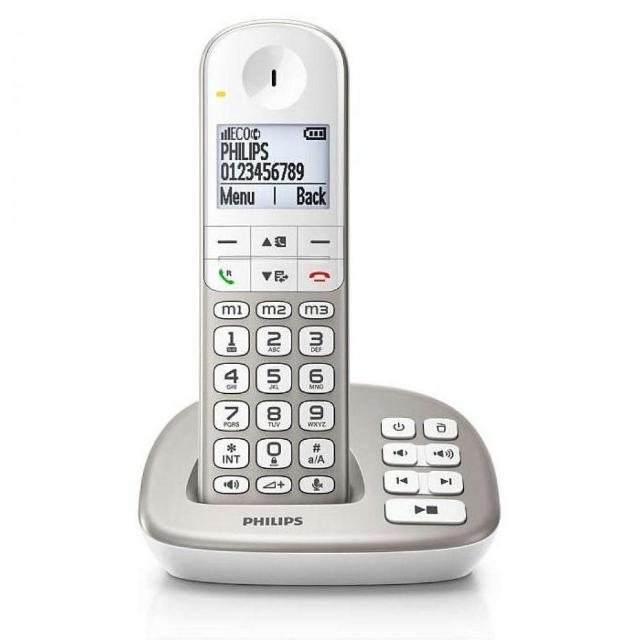Telephone-Set: (135, 1, 528, 580)
